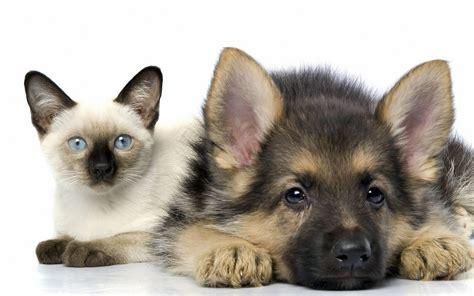cat: (24, 65, 203, 267)
dog: (38, 48, 474, 289)
